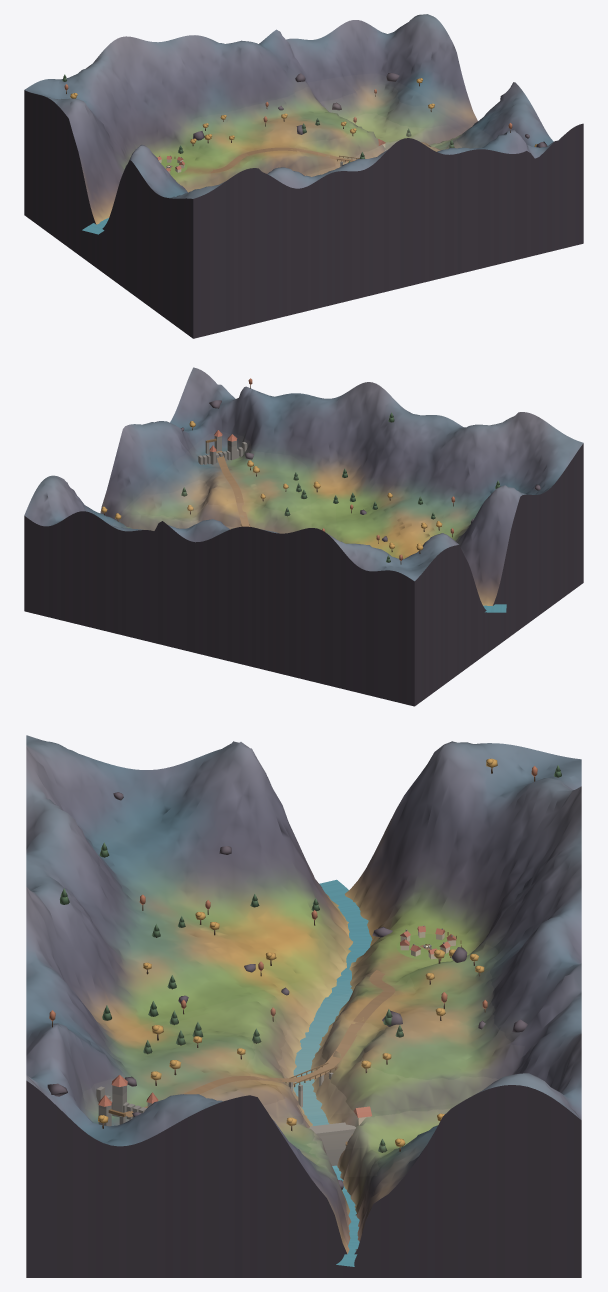
The picture shows the model from 3 angles, top to bottom: view 1: azimuth 30°, elevation 25°; view 2: azimuth 150°, elevation 25°; view 3: azimuth 270°, elevation 25°; orthographic projection. The views are drawn at different scales.
Visible parts, largest first — view 1: edge_skirt, ground_valley, water_mistband, trees, walk_road, rocks; view 2: edge_skirt, ground_valley, trees, clifftown, water_mistband, walk_road; view 3: ground_valley, edge_skirt, water_mistband, water_river, trees, walk_road, rocks, clifftown, dam, village, walk_village_green.
Boxes of the visible parts, x1,y1,x2,y2 form: edge_skirt: [24, 90, 583, 338]; ground_valley: [24, 14, 564, 224]; water_mistband: [331, 113, 454, 168]; trees: [62, 74, 537, 175]; walk_road: [168, 147, 355, 173]; rocks: [181, 73, 547, 188]; edge_skirt: [24, 443, 583, 706]; ground_valley: [24, 367, 583, 605]; trees: [101, 378, 500, 564]; clifftown: [198, 430, 247, 464]; water_mistband: [132, 515, 236, 530]; walk_road: [216, 451, 249, 526]; ground_valley: [26, 735, 581, 1253]; edge_skirt: [26, 1080, 581, 1277]; water_mistband: [277, 1017, 449, 1142]; water_river: [293, 879, 372, 1266]; trees: [49, 758, 561, 1152]; walk_road: [124, 945, 430, 1117]; rocks: [47, 792, 527, 1189]; clifftown: [96, 1075, 158, 1126]; dam: [309, 1106, 371, 1165]; village: [400, 925, 461, 960]; walk_village_green: [396, 934, 457, 959].
Bounding box in the file's own units: 130 × 46 × 94.
